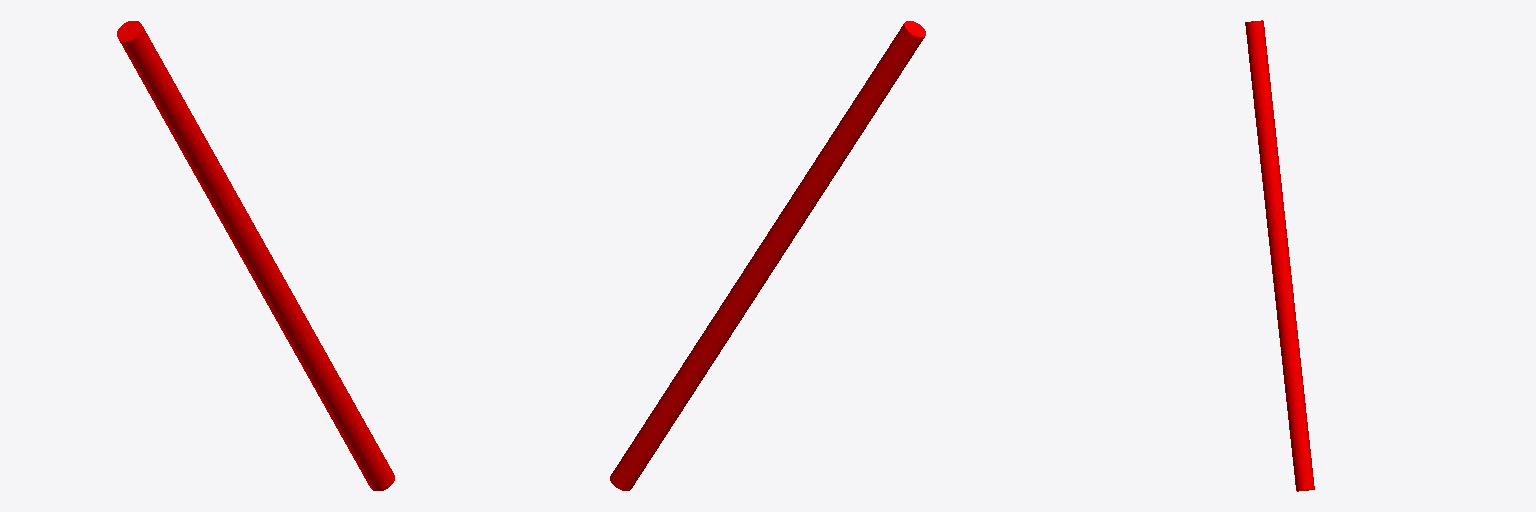
robot.urdf — tree_60.urdf:
<?xml version='1.0' encoding='utf-8'?>
<robot name="tree_60.urdf">
  <link name="branch_0">
    <inertial>
      <origin xyz="0.0 0.0 0.0" rpy="0.0 -0.0 0.0" />
      <mass value="1.0" />
      <inertia ixx="1.0" ixy="0.0" ixz="0.0" iyy="1.0" iyz="0.0" izz="1.0" />
    </inertial>
    <visual name="branch_0_visual">
      <geometry>
        <cylinder radius="0.07485036495615836" length="3.772973528068241" />
      </geometry>
      <material name="semantic_material" />
      <origin xyz="-0.9084710532630795 -0.20397476233673006 1.6407031884495964" rpy="-2.7081360538834467e-17 0.5161745879487538 -2.9207300556084337" />
    </visual>
    <collision name="branch_0_collision">
      <geometry>
        <cylinder radius="0.07485036495615836" length="3.772973528068241" />
      </geometry>
      <origin xyz="-0.9084710532630795 -0.20397476233673006 1.6407031884495964" rpy="-2.7081360538834467e-17 0.5161745879487538 -2.9207300556084337" />
    </collision>
  </link>
  <material name="semantic_material">
    <color rgba="1. 0. 0. 1." />
  </material>
</robot>

--- What the picture shows (computed from the rendered views, not written in the file) ---
3 views of the same robot in one strip: view 1: azimuth 30°, elevation 25°; view 2: azimuth 150°, elevation 25°; view 3: azimuth 270°, elevation 25° (orthographic).
Robot: tree_60.urdf — 1 links, 0 joints (none); root link branch_0; default pose: every joint at zero.
Links seen in each view (by area): view 1: branch_0; view 2: branch_0; view 3: branch_0.
Boxes of the visible links, left/top/right/bottom form: branch_0: left=117, top=21, right=394, bottom=490; branch_0: left=610, top=21, right=925, bottom=490; branch_0: left=1245, top=20, right=1314, bottom=491.
Size in the robot's own frame: 1.95 by 0.5568 by 3.36 metres.
Geometry: primitives only (box / cylinder / sphere), no mesh files.